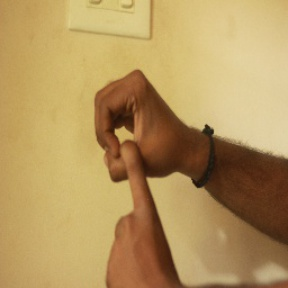Q: (87, 63, 196, 288)
